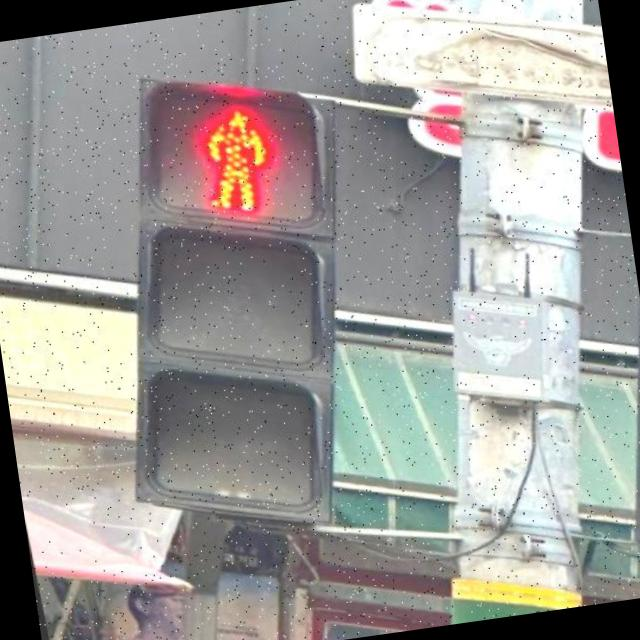red_light: (132, 66, 326, 246)
